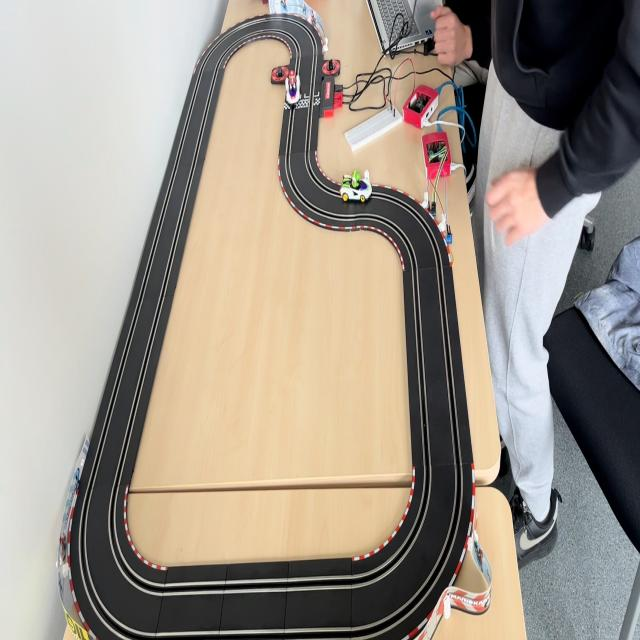mario: (286, 70, 302, 108)
yoshi: (340, 167, 372, 203)
